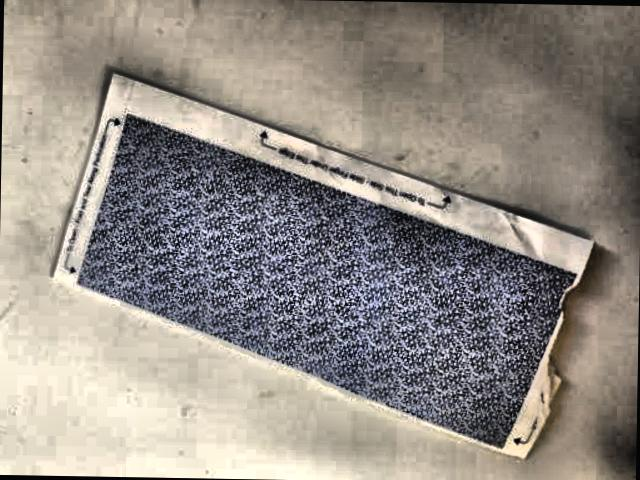Paper: (14, 8, 640, 480)
